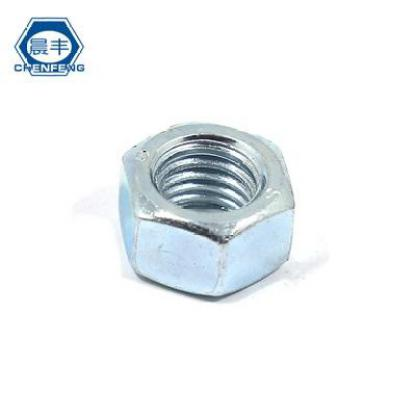FOD: (114, 121, 298, 300)
